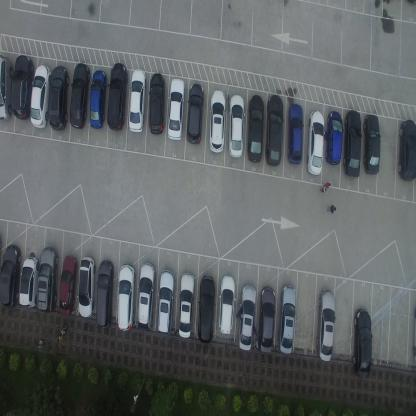car: (11, 53, 35, 120), (315, 289, 336, 363), (106, 61, 128, 131), (36, 246, 58, 313), (276, 285, 297, 355), (0, 244, 22, 310), (352, 307, 372, 379), (69, 62, 90, 129), (265, 93, 284, 167), (30, 63, 51, 128), (257, 284, 276, 355), (197, 274, 216, 344), (95, 258, 114, 328), (49, 64, 69, 130), (343, 110, 362, 179), (136, 262, 155, 331), (237, 284, 256, 350), (117, 263, 135, 332), (18, 254, 40, 310), (128, 69, 147, 133), (156, 270, 175, 334), (306, 109, 324, 176), (247, 94, 264, 164), (58, 254, 77, 316), (178, 271, 195, 338), (186, 83, 204, 146), (362, 113, 380, 176), (397, 118, 415, 181), (78, 255, 96, 318), (218, 274, 236, 336), (89, 69, 107, 130), (167, 78, 184, 142), (209, 89, 226, 153), (149, 72, 166, 135), (229, 92, 244, 160), (287, 102, 303, 165), (324, 109, 342, 165), (0, 55, 14, 122)
